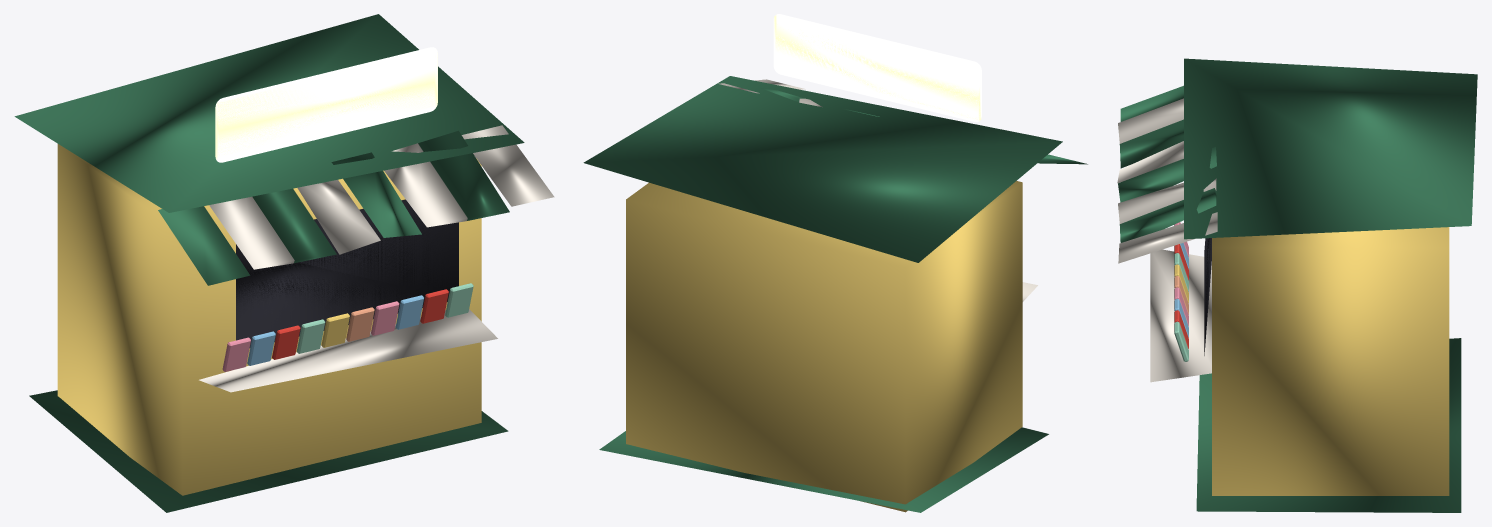
Rendered from kiosk.glb.
The picture shows the model from 3 angles, left to right: view 1: azimuth 30°, elevation 25°; view 2: azimuth 150°, elevation 25°; view 3: azimuth 270°, elevation 25°; orthographic projection. The views are drawn at different scales.
Parts seen in each view (by area): view 1: kiosk; view 2: kiosk; view 3: kiosk.
Part boxes in pixels (left/top/right/bottom): kiosk: left=14, top=14, right=554, bottom=512; kiosk: left=583, top=14, right=1087, bottom=512; kiosk: left=1117, top=58, right=1477, bottom=512.
Size of the model in its own units: 2.92 by 3.01 by 2.66.
1 material, 1 textured.
